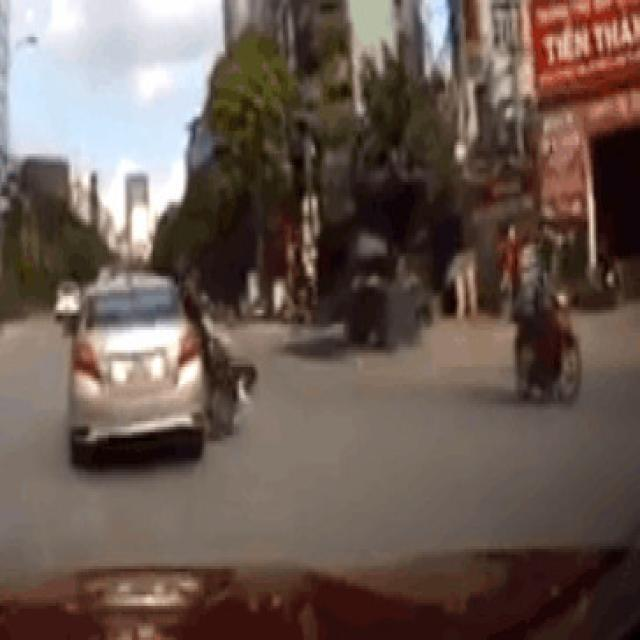multiple_accident: (60, 267, 262, 479)
normal: (491, 224, 599, 421)
